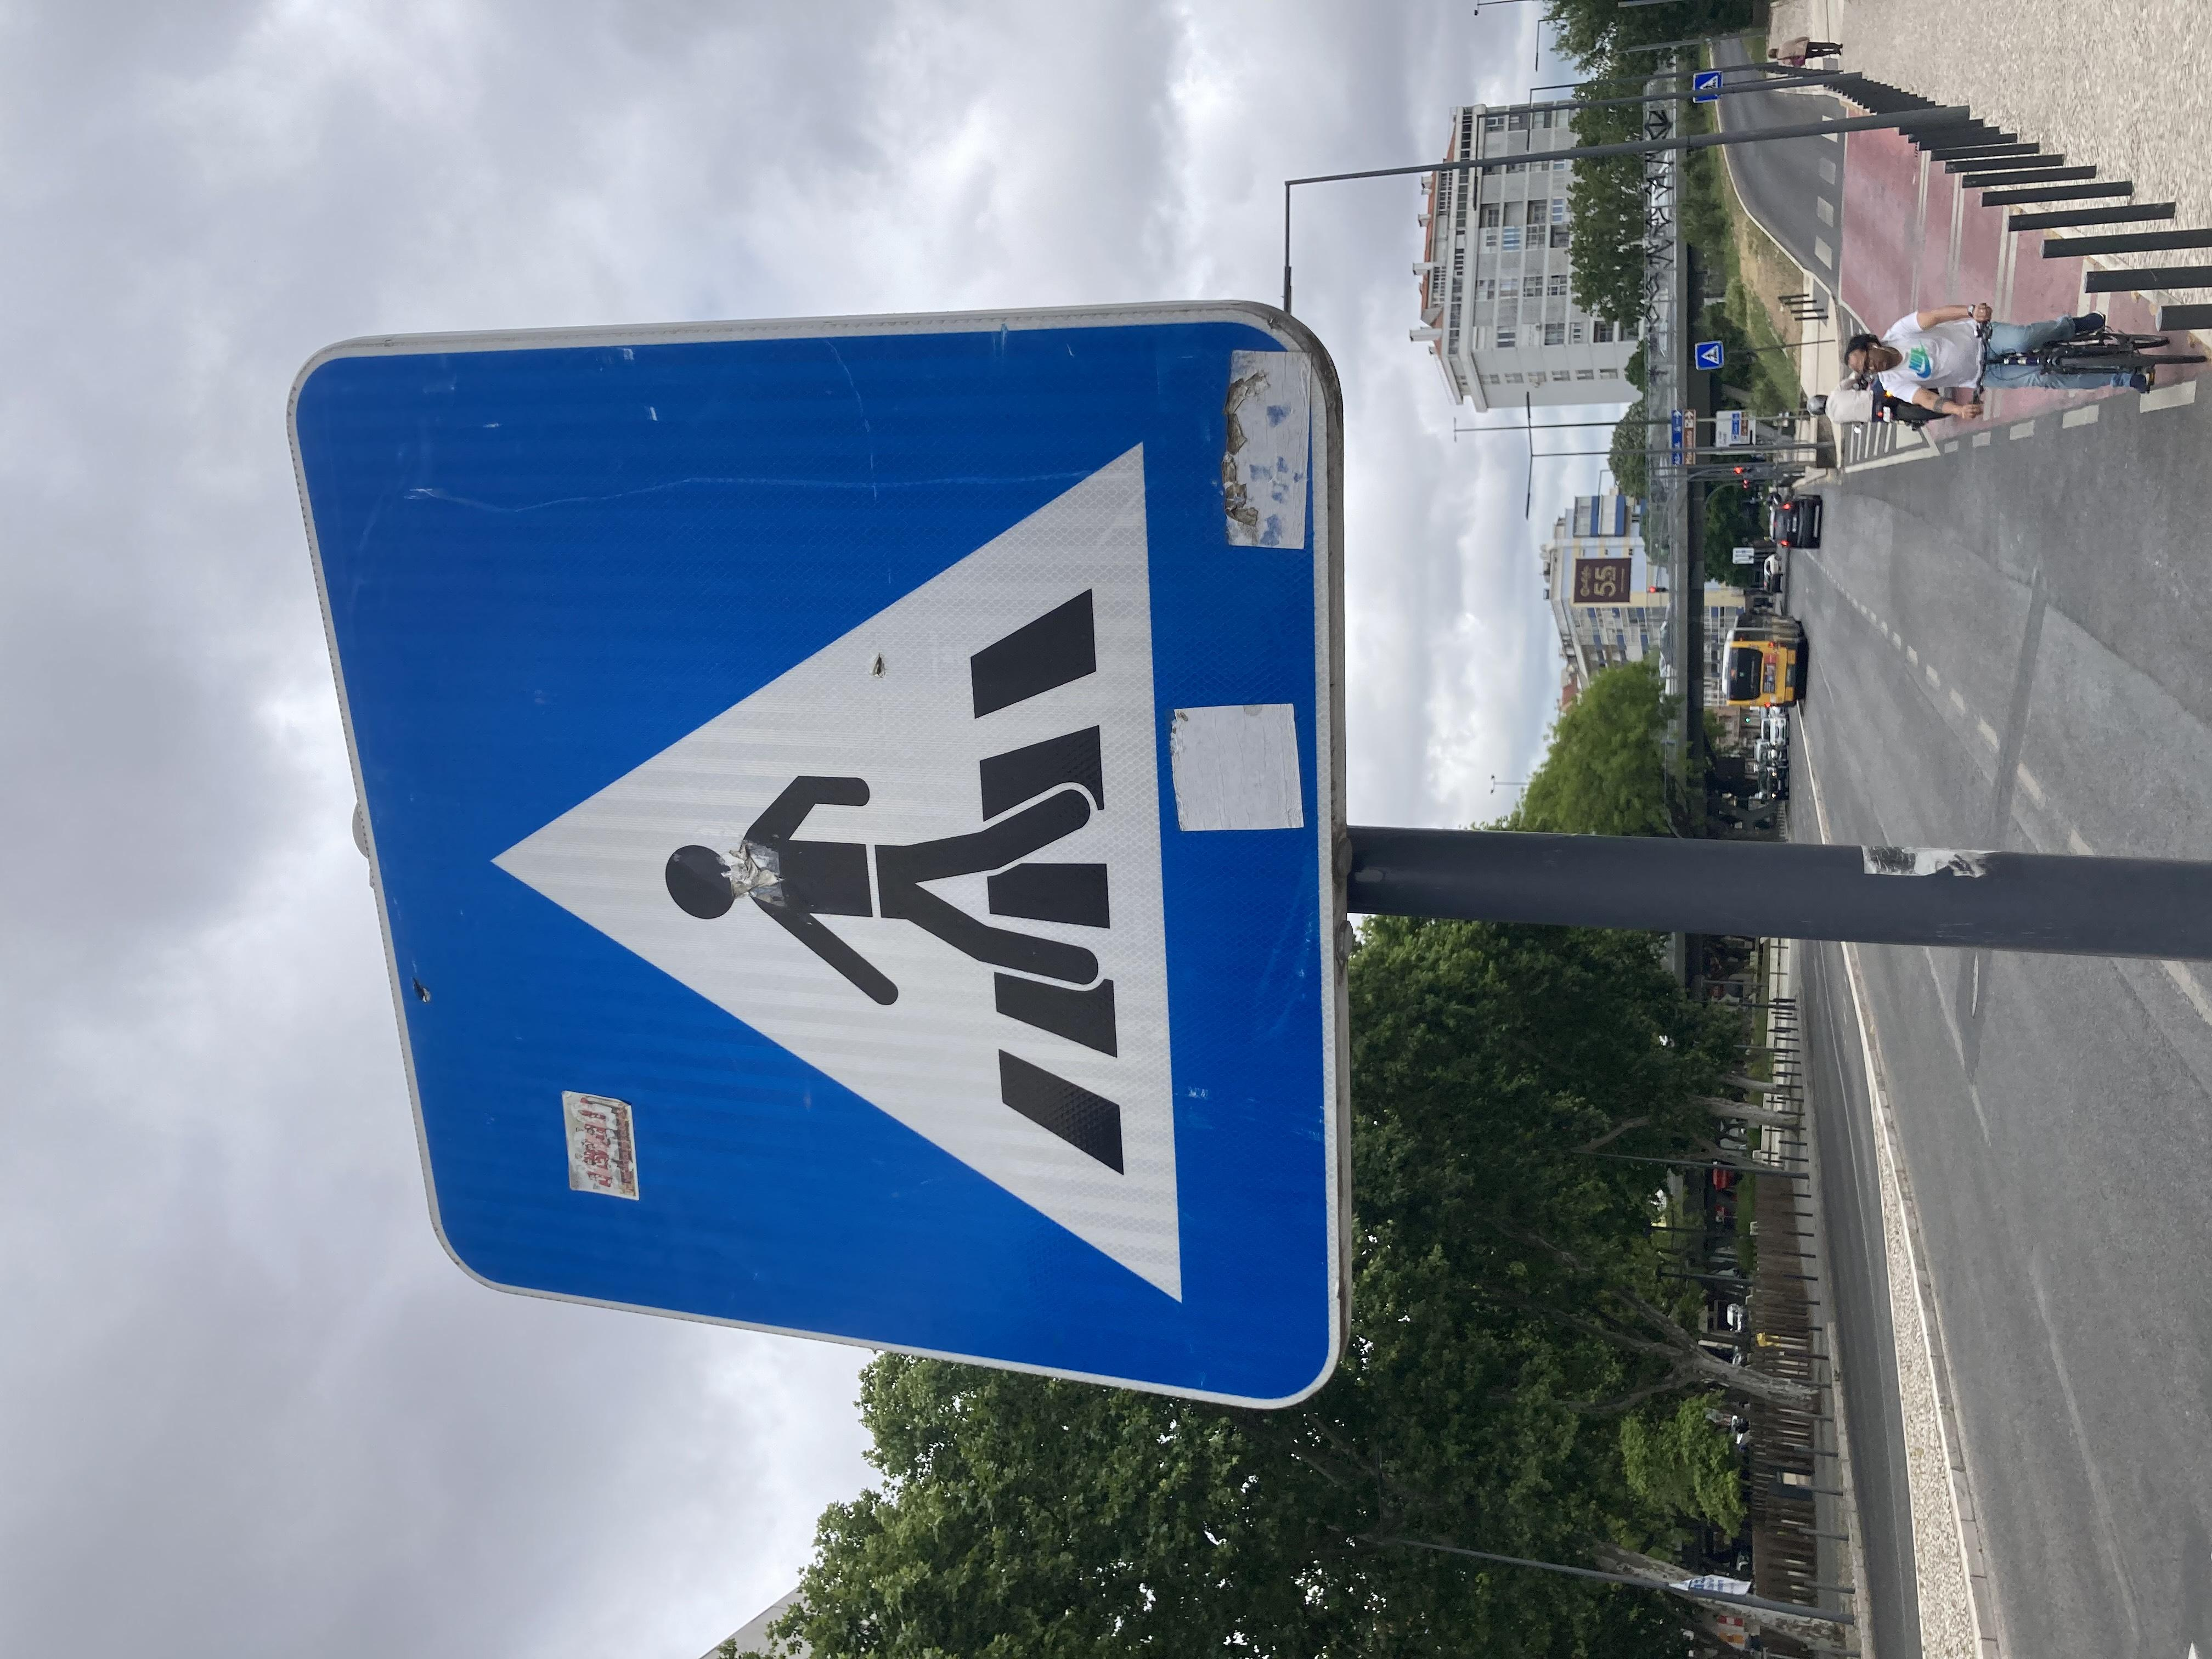Passagem para peoes: (286, 218, 1820, 1039)
